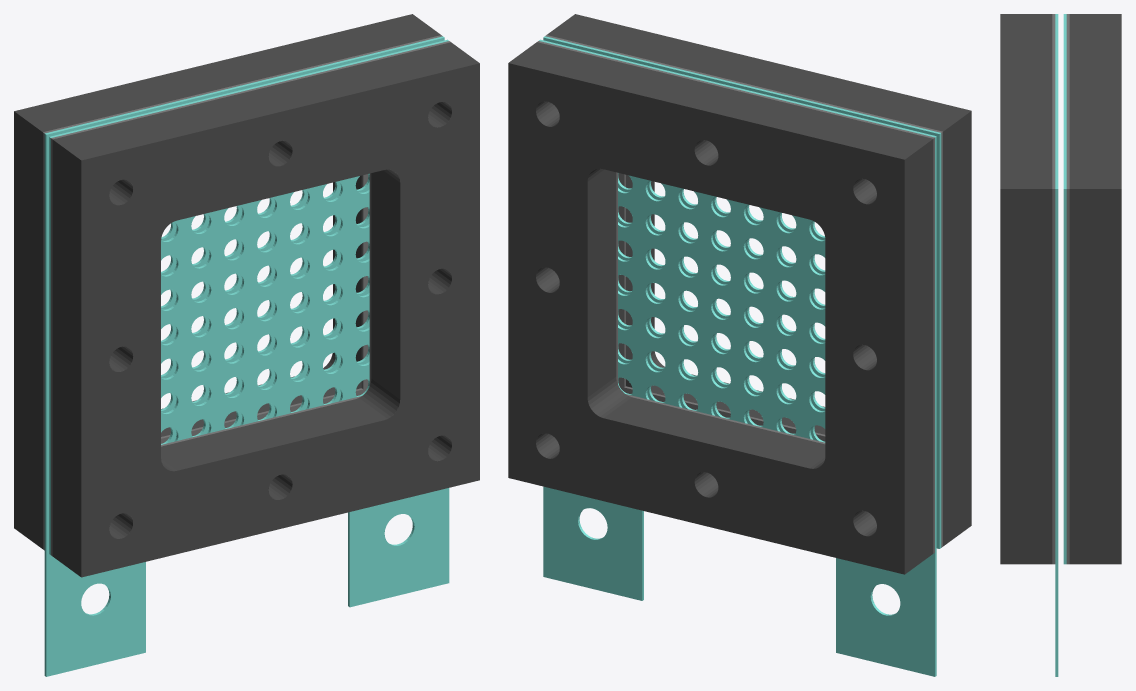
File: model-energy.glb
3 views of the same model, side by side, from view 1: azimuth 30°, elevation 25°; view 2: azimuth 150°, elevation 25°; view 3: azimuth 270°, elevation 25° (orthographic). The views are drawn at different scales.
Parts seen in each view (by area): view 1: part_001, part_003, part_009, part_007, part_002, part_008; view 2: part_009, part_007, part_001, part_003, part_002, part_008; view 3: part_009, part_001, part_003, part_007, part_008, part_002.
Part boxes in pixels (<box>): part_001: <box>52,42,479,577</box>; part_003: <box>49,39,449,607</box>; part_009: <box>14,14,440,548</box>; part_007: <box>44,36,444,676</box>; part_002: <box>51,41,450,556</box>; part_008: <box>43,35,442,550</box>; part_009: <box>508,42,933,574</box>; part_007: <box>539,39,936,676</box>; part_001: <box>547,14,971,546</box>; part_003: <box>543,36,941,600</box>; part_002: <box>545,35,942,547</box>; part_008: <box>537,41,934,553</box>; part_009: <box>1069,14,1121,564</box>; part_001: <box>1000,14,1052,564</box>; part_003: <box>1055,14,1058,676</box>; part_007: <box>1063,14,1066,564</box>; part_008: <box>1066,14,1069,564</box>; part_002: <box>1052,14,1055,564</box>.
Bounding box in the file's own units: 75.89 × 98.66 × 22.2.
